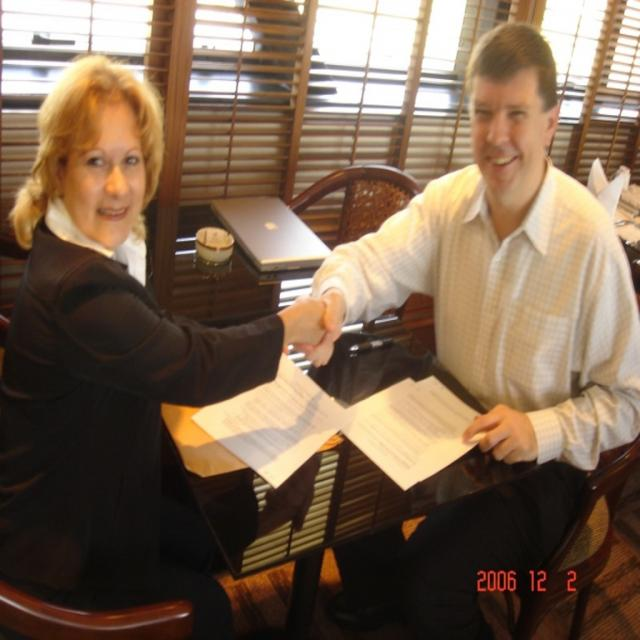chair: (479, 434, 639, 640), (0, 568, 196, 640), (290, 164, 424, 251)
desk: (160, 206, 538, 639)
laptop: (209, 195, 333, 274)
person: (292, 21, 639, 640), (1, 46, 334, 617)
